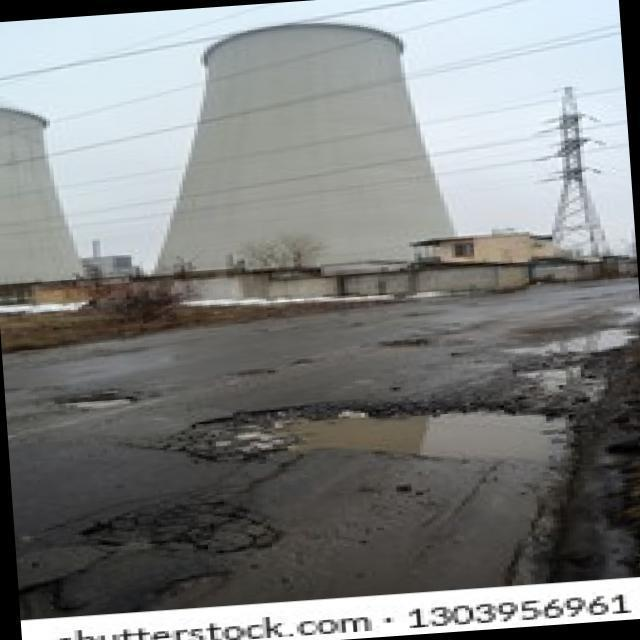pothole: (164, 381, 582, 486), (84, 494, 275, 562), (119, 570, 234, 610), (17, 574, 84, 620), (46, 391, 137, 413), (233, 367, 275, 377), (285, 358, 312, 369)
